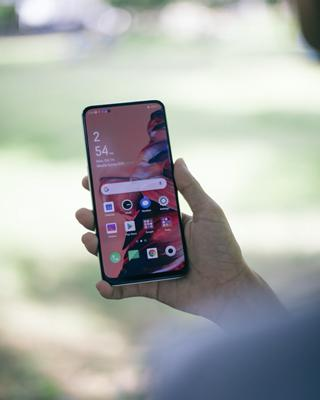cell-phone: (79, 100, 189, 282)
